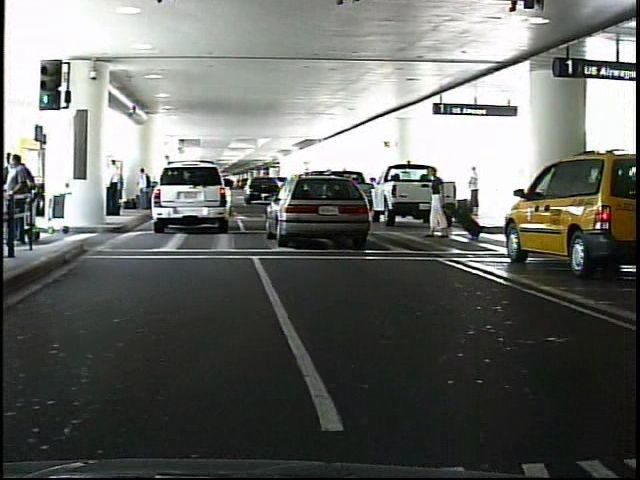person: (428, 164, 451, 242), (108, 157, 125, 218), (142, 166, 156, 215), (475, 164, 488, 207)
